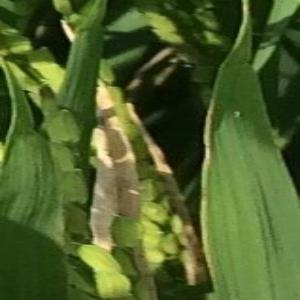Bacterial_Blight: (198, 89, 291, 300)
